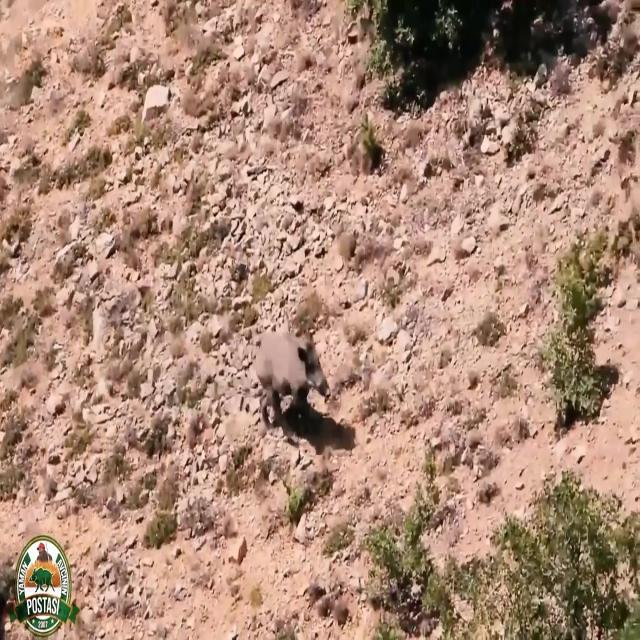pig: (255, 307, 336, 436)
